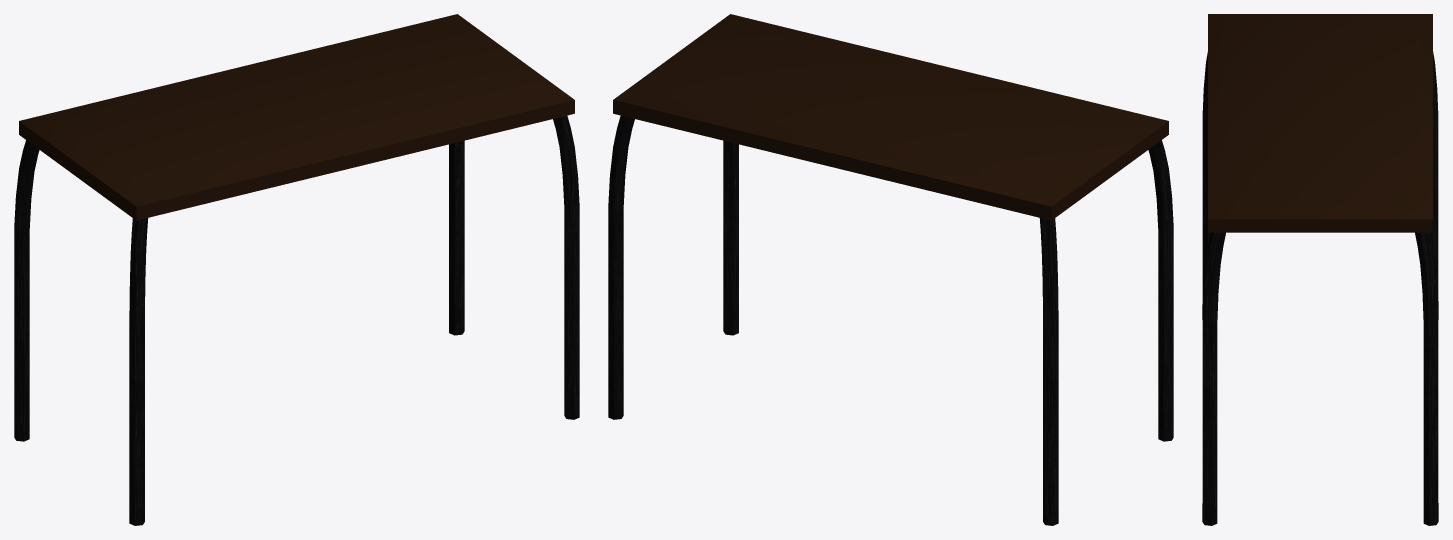
File: piano chair.FBX
3 views of the same model, side by side, from view 1: azimuth 30°, elevation 25°; view 2: azimuth 150°, elevation 25°; view 3: azimuth 270°, elevation 25° (orthographic). The views are drawn at different scales.
Parts seen in each view (by area): view 1: piano chair_lp; view 2: piano chair_lp; view 3: piano chair_lp.
Boxes of the visible parts, box(x1,y1,x2,y2) form: piano chair_lp: box(14, 14, 579, 525); piano chair_lp: box(608, 14, 1173, 525); piano chair_lp: box(1202, 14, 1438, 525).
Size of the model in its own units: 67.84 by 47.14 by 32.24.
1 material, 1 textured.
